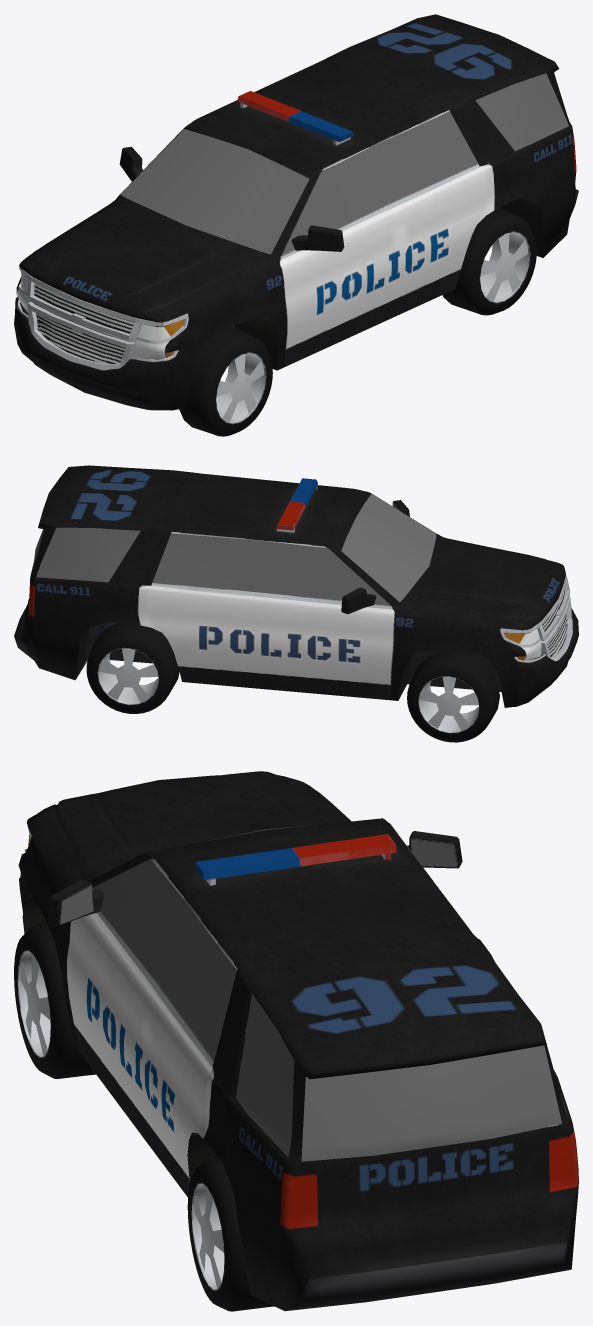
Rendered from tahoe textured.fbx.
3 renders of one model, top to bottom at view 1: azimuth 30°, elevation 25°; view 2: azimuth 150°, elevation 25°; view 3: azimuth 270°, elevation 25°, orthographic. The views are drawn at different scales.
Parts seen in each view (by area): view 1: pCube13; view 2: pCube13; view 3: pCube13.
Part boxes in pixels (bbox=[...]): pCube13: bbox=[14, 14, 578, 436]; pCube13: bbox=[14, 465, 578, 742]; pCube13: bbox=[14, 771, 578, 1311].
Bounding box in the file's own units: 15.36 × 5.67 × 8.84.
1 material, 1 textured.
